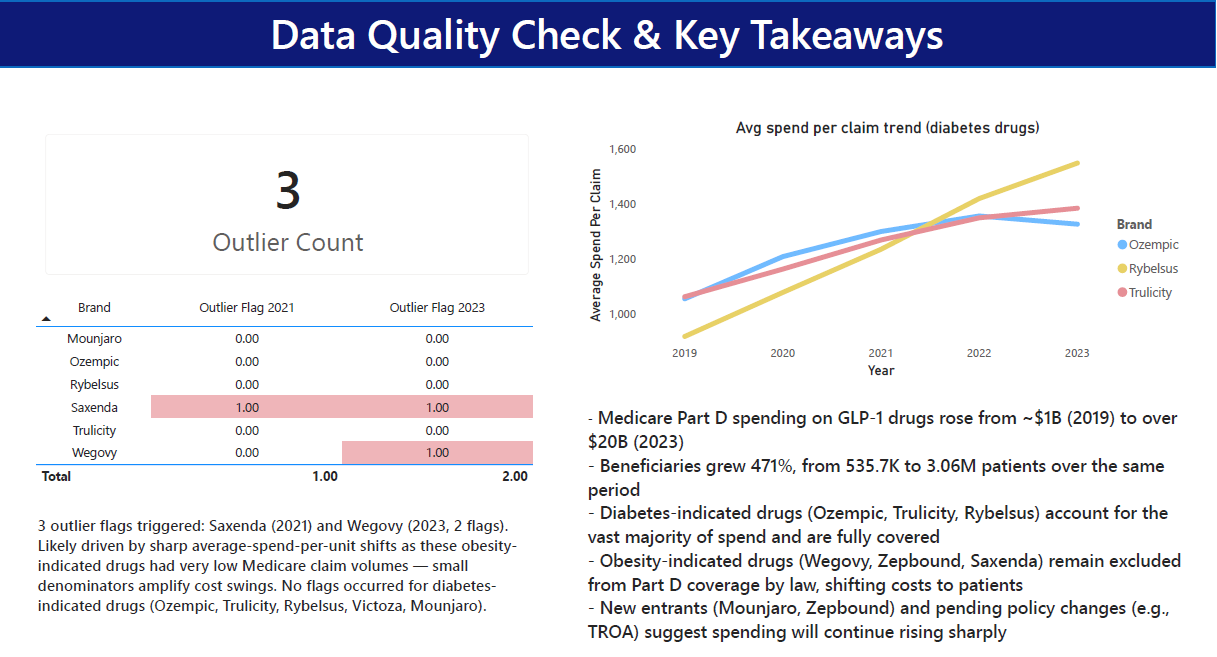

The page's visual inventory and layout, read from the dashboard file:
{"tool":"powerbi","page":{"name":"Page 3","canvas":[1280,720],"ordinal":2},"visuals":[{"type":"shape","box":[0,0,1280,70],"z":0},{"type":"lineChart","title":"Avg spend per claim trend (diabetes drugs)","fields":{"Category":["public clm glp.Year"],"Y":["Avg(public clm glp.Avg_Spnd_Per_Clm)"],"Series":["public clm glp.Brnd_Name"]},"box":[615,123.3,640,278.3],"z":1000},{"type":"cardVisual","fields":{"Data":["public glp.Outlier_Count"]},"box":[33.3,123.3,541.7,181.7],"z":2000},{"type":"tableEx","fields":{"Values":["public glp.Brnd_Name","Sum(public glp.Outlier_Flag_2021)","Sum(public glp.Outlier_Flag_2023)"]},"box":[35,305,541.7,230],"z":3000},{"type":"textbox","box":[36.7,535,541.7,131.7],"z":4000},{"type":"textbox","box":[615,420,640,266.7],"z":5000},{"type":"textbox","box":[0,0,1280,70],"z":6000}]}

Visuals, with their boxes on the page's 1280x720 design canvas (x1, y1, x2, y2). These are canvas units, not pixel positions in the 1217x657 screenshot, which may show the page scaled, cropped or inside an application window:
shape: (x1=0, y1=0, x2=1280, y2=70)
"Avg spend per claim trend (diabetes drugs)" lineChart: (x1=615, y1=123, x2=1255, y2=402)
cardVisual - public glp.Outlier_Count: (x1=33, y1=123, x2=575, y2=305)
tableEx - public glp.Brnd_Name x Sum(public glp.Outlier_Flag_2021): (x1=35, y1=305, x2=577, y2=535)
textbox: (x1=37, y1=535, x2=578, y2=667)
textbox: (x1=615, y1=420, x2=1255, y2=687)
textbox: (x1=0, y1=0, x2=1280, y2=70)
